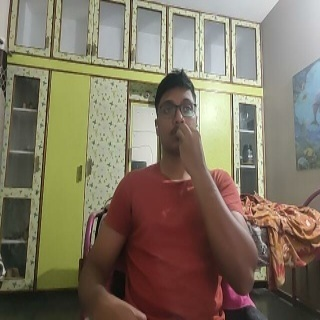Food: (174, 122, 209, 191)
